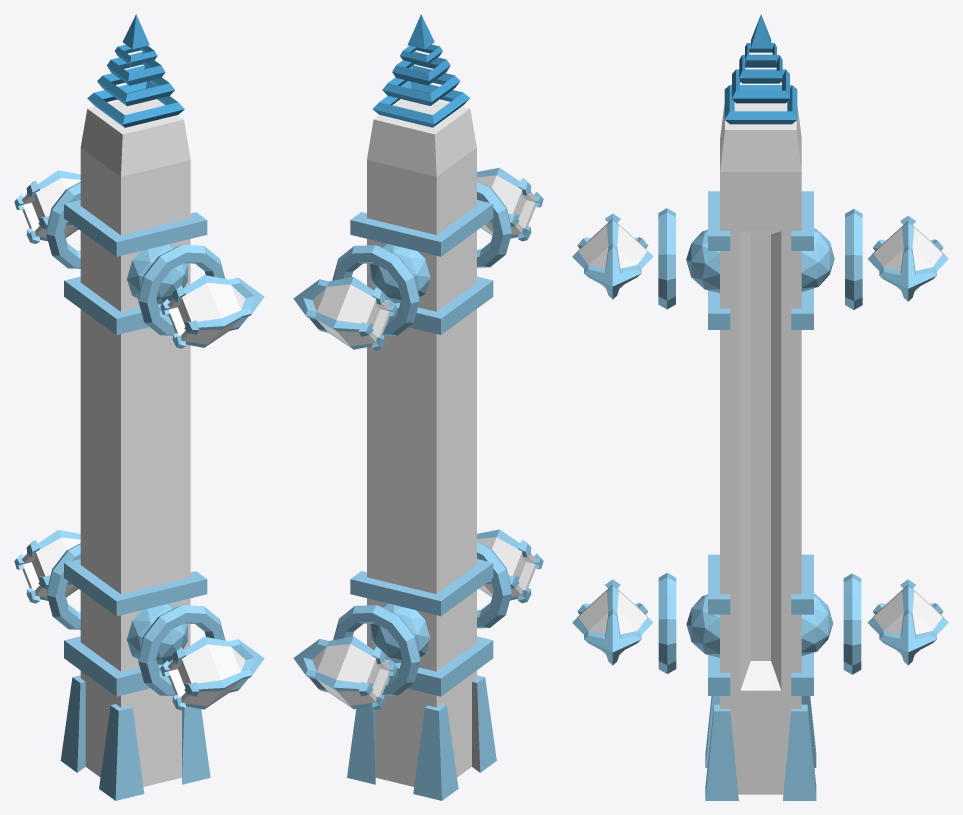
Rendered from scutum.fbx.
3 views of the same model, side by side, from view 1: azimuth 30°, elevation 25°; view 2: azimuth 150°, elevation 25°; view 3: azimuth 270°, elevation 25° (orthographic).
Parts seen in each view (by area): view 1: cuerpo, generador inferior derecho, generador superior derecho, generador inferior izquierdo, generador superior izquierdo; view 2: cuerpo, generador superior izquierdo, generador inferior izquierdo, generador inferior derecho, generador superior derecho; view 3: cuerpo, generador superior izquierdo, generador inferior izquierdo, generador superior derecho, generador inferior derecho.
Part boxes in pixels (x1,y1,x2,y2): cuerpo: (46,14,225,800); generador inferior derecho: (160,636,264,710); generador superior derecho: (160,275,264,348); generador inferior izquierdo: (14,530,80,603); generador superior izquierdo: (14,170,80,243); cuerpo: (332,14,511,800); generador superior izquierdo: (293,277,397,350); generador inferior izquierdo: (293,636,397,709); generador inferior derecho: (477,529,543,603); generador superior derecho: (477,167,543,241); cuerpo: (658,14,862,800); generador superior izquierdo: (868,216,948,301); generador inferior izquierdo: (867,579,948,665); generador superior derecho: (572,213,653,299); generador inferior derecho: (572,579,653,665).
Bounding box in the file's own units: 29.13 × 203 × 90.97.
